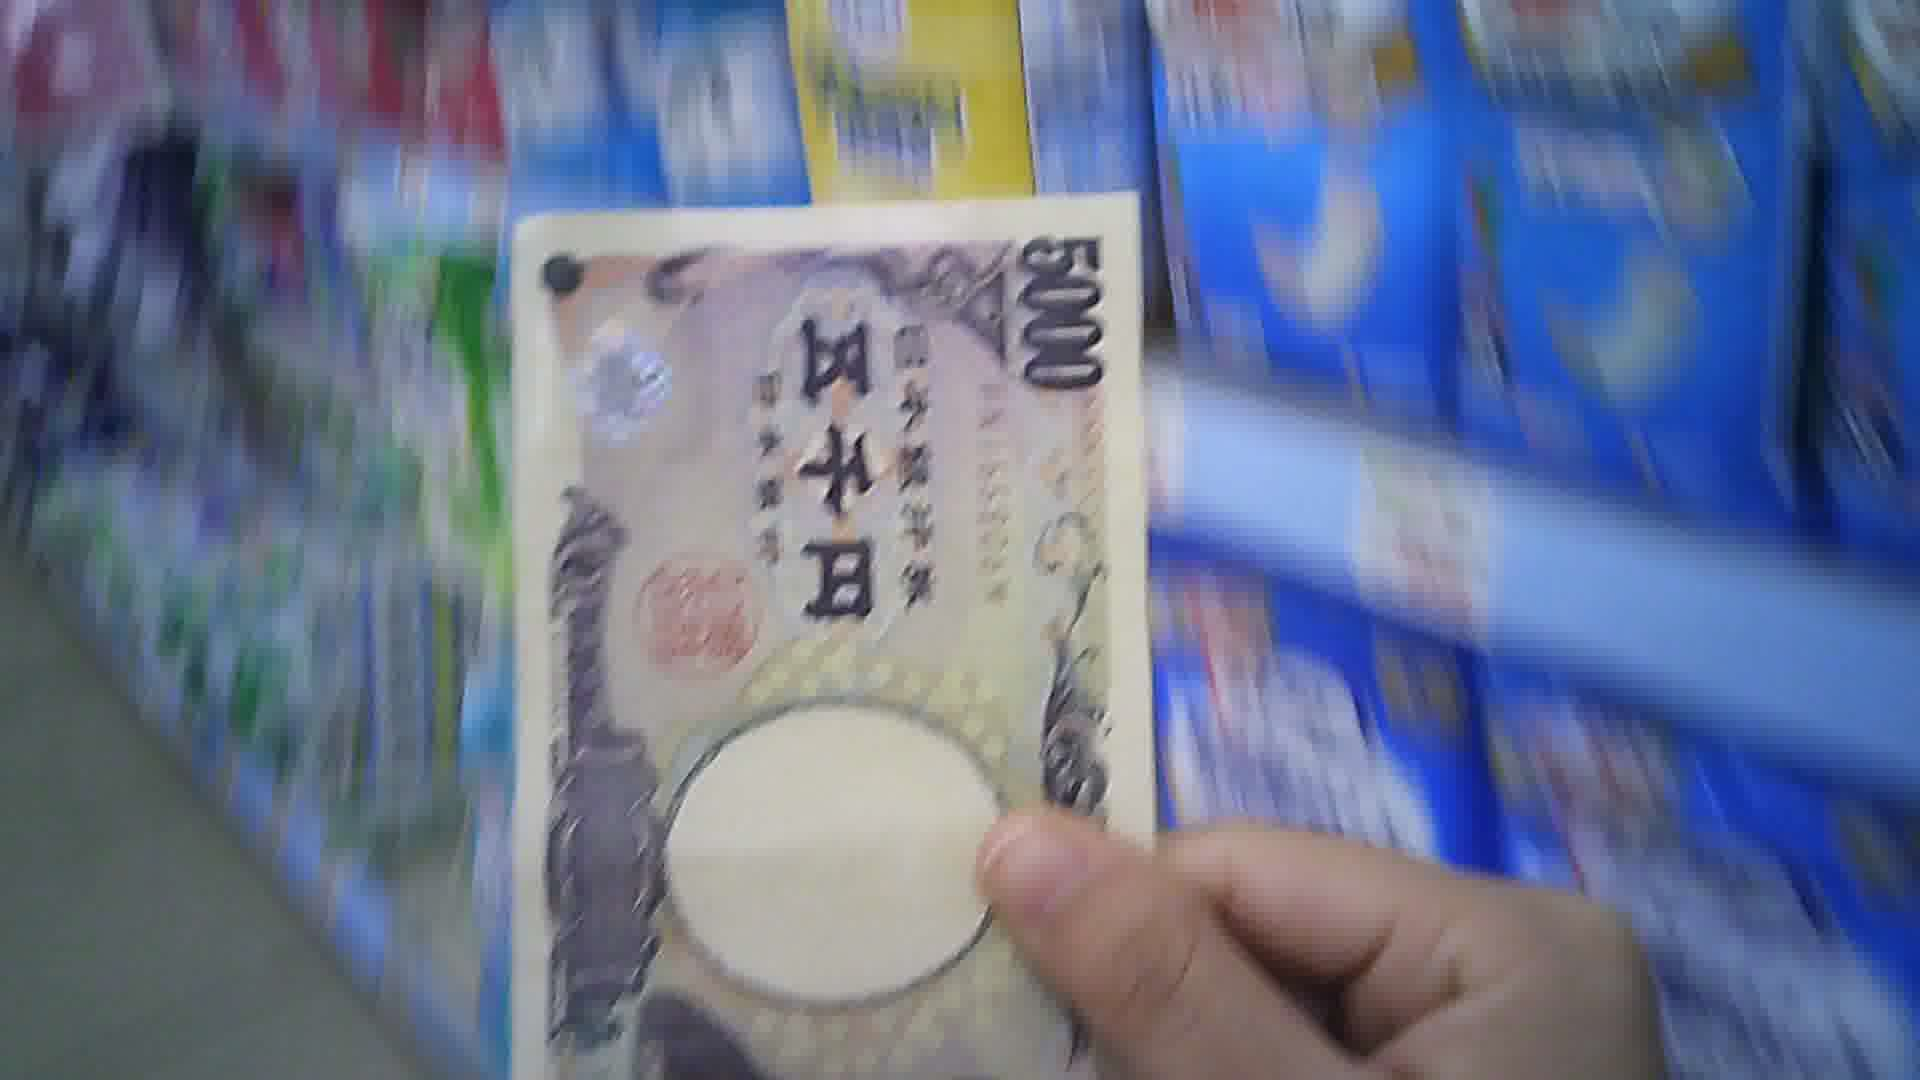5,000 Yen: (487, 146, 1159, 1079)
